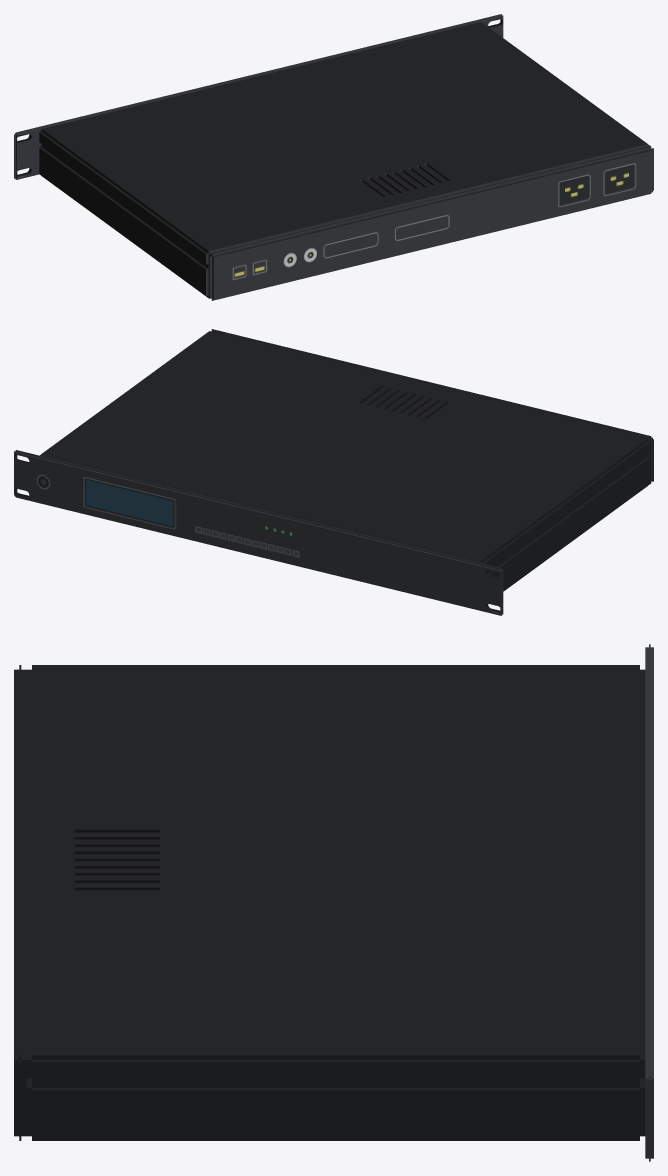
Rendered from tieline-gateway.glb.
The picture shows the model from 3 angles, top to bottom: view 1: azimuth 30°, elevation 25°; view 2: azimuth 150°, elevation 25°; view 3: azimuth 270°, elevation 25°; orthographic projection. The views are drawn at different scales.
Visible parts, largest first — view 1: tieline-gateway-body; view 2: tieline-gateway-body; view 3: tieline-gateway-body.
Part boxes in pixels (box(x1,y1,x2,y2)): tieline-gateway-body: box(14, 14, 653, 300); tieline-gateway-body: box(14, 329, 653, 615); tieline-gateway-body: box(14, 644, 653, 1161).
Size of the model in its own units: 0.482 by 0.0445 by 0.3.
Materials: 1 (1 with a texture image).
